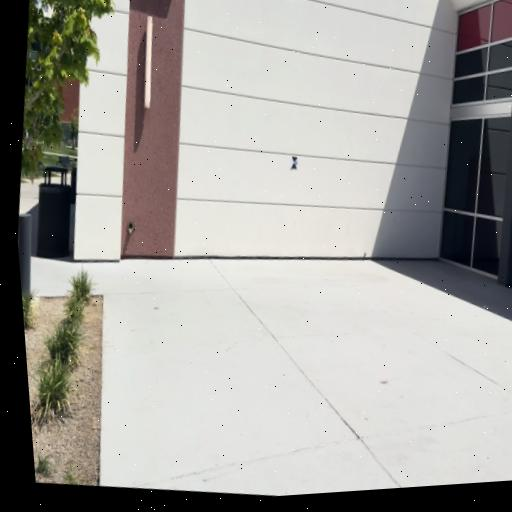target0: (290, 156, 299, 170)
